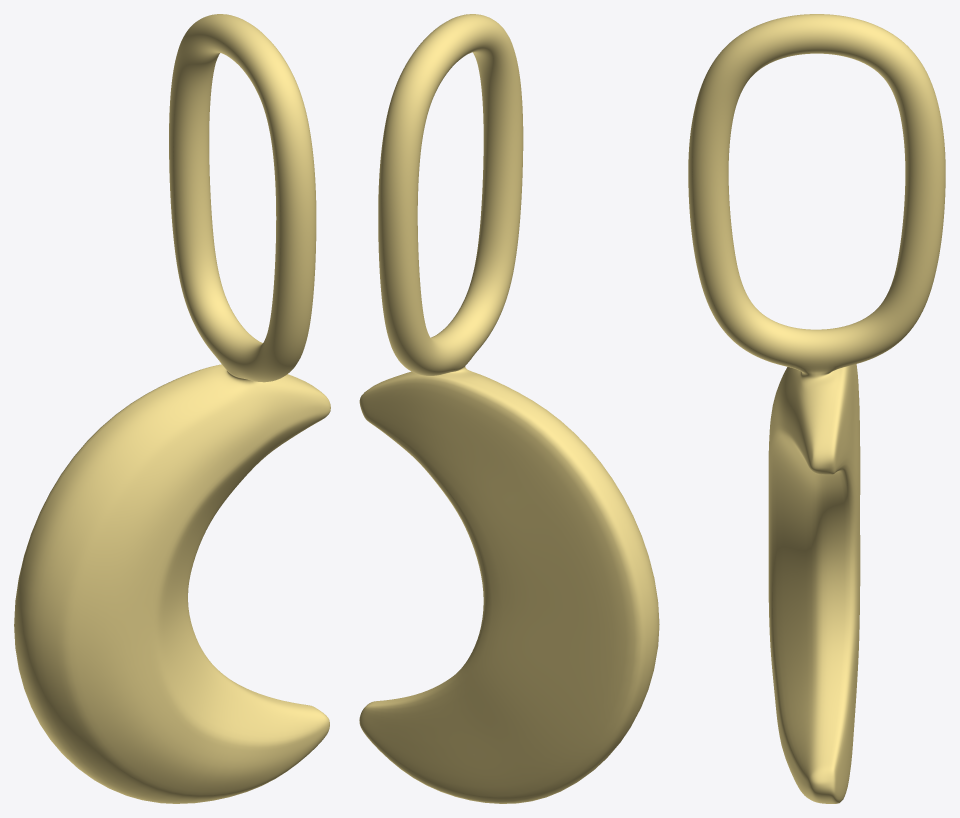
The model's file is moon.glb.
3 views of the same model, side by side, from view 1: azimuth 30°, elevation 25°; view 2: azimuth 150°, elevation 25°; view 3: azimuth 270°, elevation 25° (orthographic). The views are drawn at different scales.
Parts seen in each view (by area): view 1: moon; view 2: moon; view 3: moon.
Boxes of the visible parts, bbox=[...] form: moon: bbox=[14, 14, 330, 803]; moon: bbox=[359, 14, 659, 803]; moon: bbox=[688, 14, 945, 803].
Size of the model in its own units: 0.00448 by 0.011 by 0.00328.
Materials: 1 (1 with a texture image).
